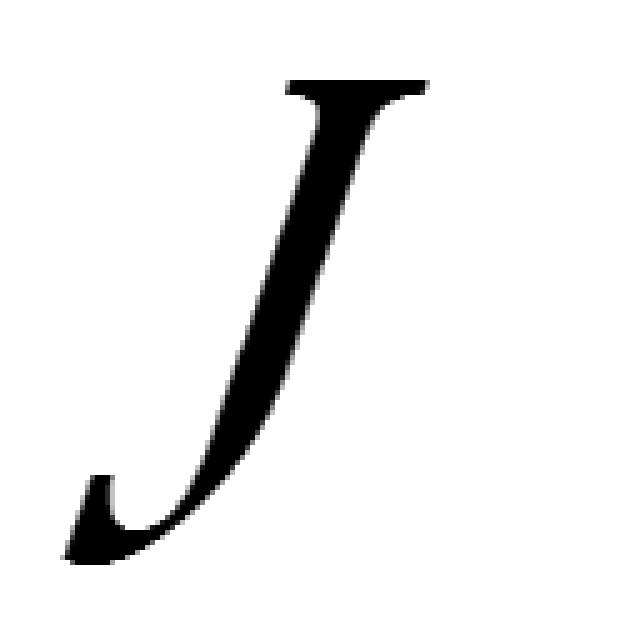J: (55, 70, 430, 570)
